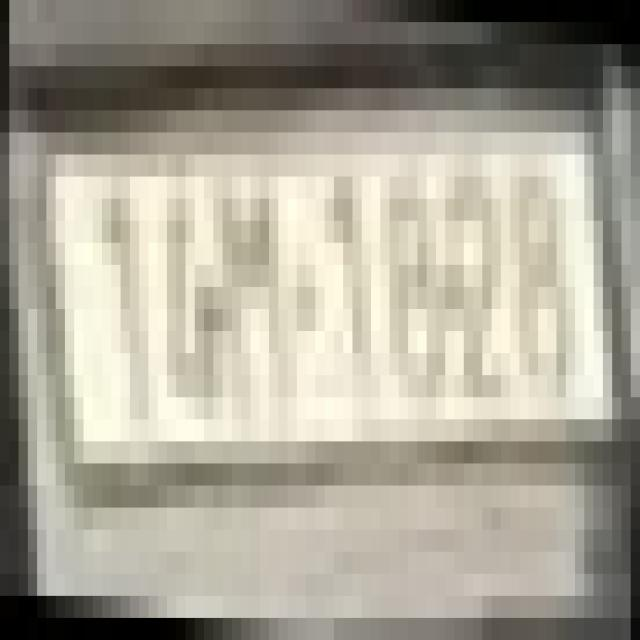1: (93, 176, 148, 420), (325, 154, 371, 398)
8: (510, 154, 566, 398), (390, 154, 436, 398)
9: (445, 177, 501, 397)
M: (228, 166, 302, 430)
